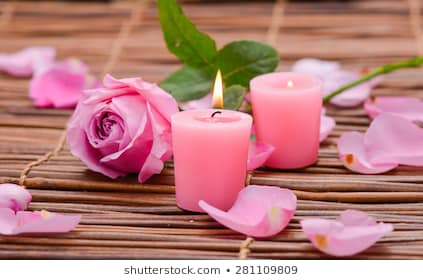Fire: (210, 68, 229, 110)
